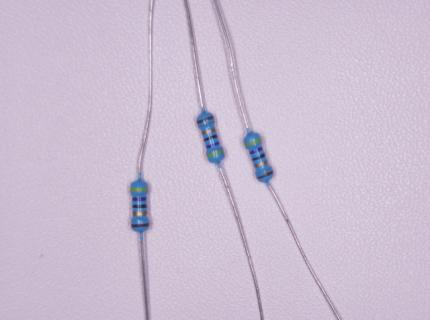Black band: (252, 153, 266, 161), (204, 135, 217, 142), (132, 204, 147, 208)
Brown band: (256, 170, 273, 180), (197, 116, 214, 125), (131, 223, 149, 228)
Gold band: (254, 159, 268, 168), (202, 128, 216, 135), (133, 211, 147, 216)
Violet band: (249, 146, 263, 155), (206, 141, 220, 149), (133, 197, 147, 201)
Yellow band: (245, 137, 261, 147), (207, 149, 224, 157), (130, 188, 148, 192)
